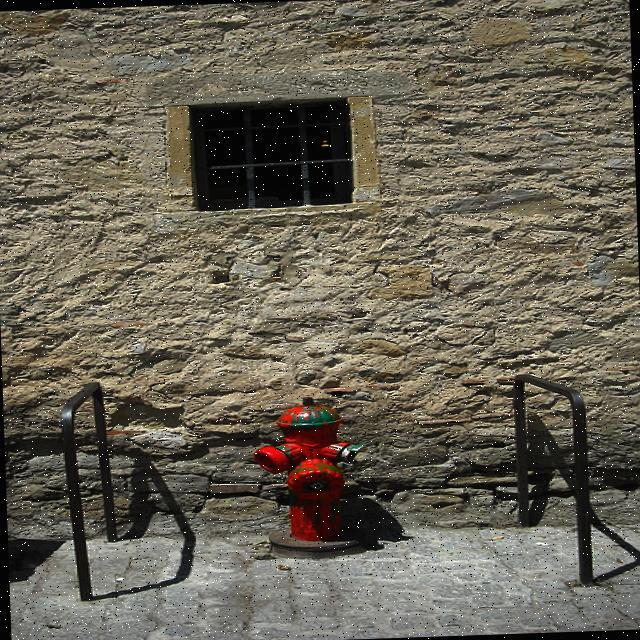fire_hydrant: (250, 392, 368, 540)
